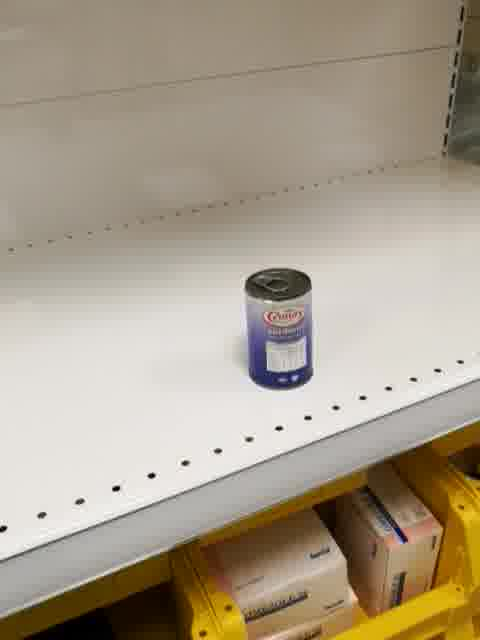sardine: (245, 266, 314, 392)
